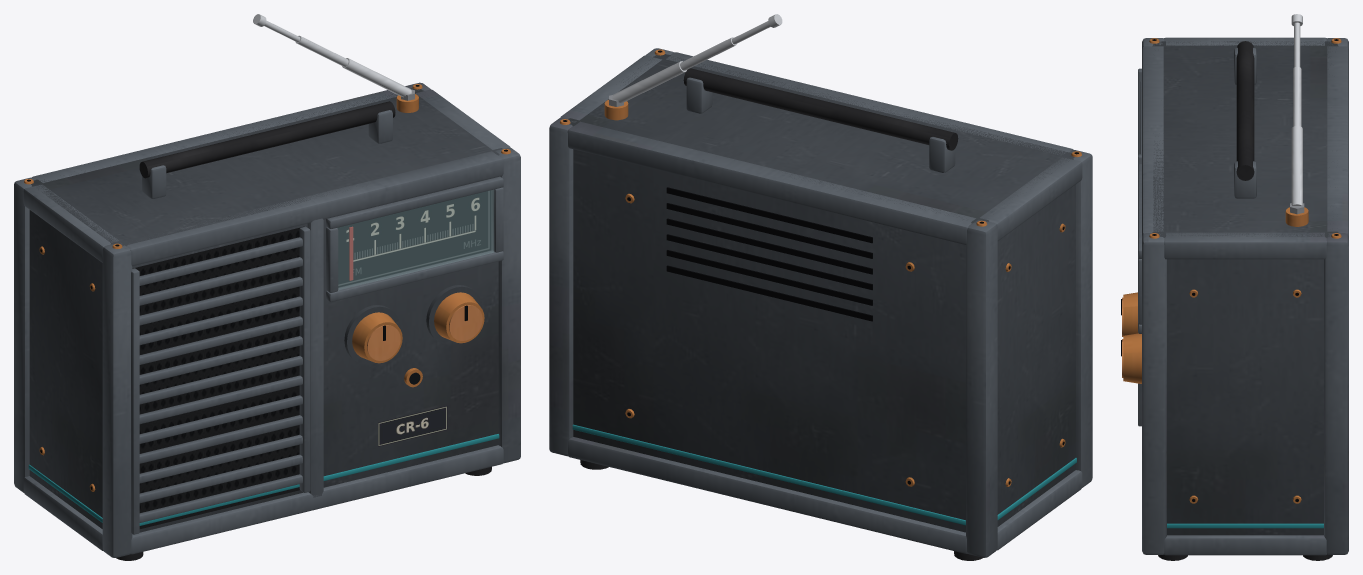
File: radio.glb
3 views of the same model, side by side, from view 1: azimuth 30°, elevation 25°; view 2: azimuth 150°, elevation 25°; view 3: azimuth 270°, elevation 25° (orthographic). The views are drawn at different scales.
Parts seen in each view (by area): view 1: Body; view 2: Body; view 3: Body.
Part boxes in pixels (bbox=[...]): Body: bbox=[14, 14, 520, 560]; Body: bbox=[549, 14, 1092, 560]; Body: bbox=[1121, 14, 1348, 560].
Bounding box in the file's own units: 0.47 × 0.4928 × 0.2203.
Materials: 17 (11 with a texture image).
